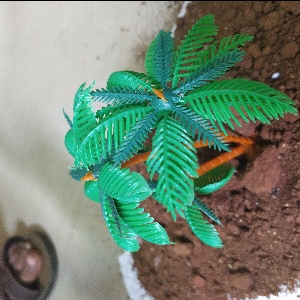plant: (58, 25, 276, 252)
